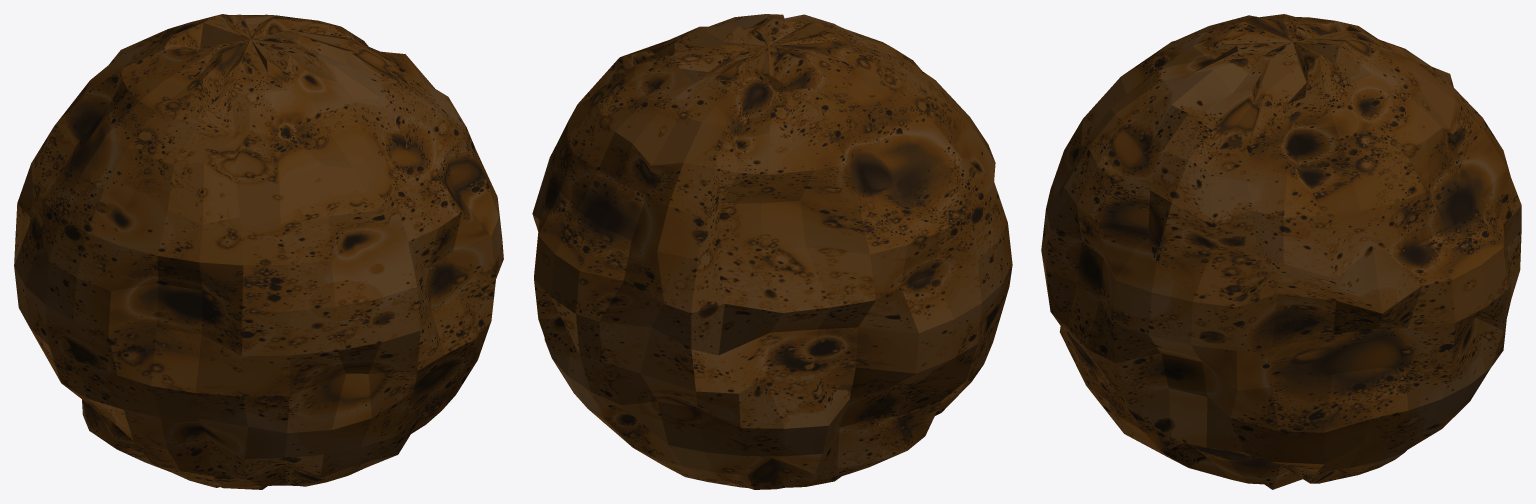
Rendered from planetAstero.obj.
3 renders of one model, left to right at view 1: azimuth 30°, elevation 25°; view 2: azimuth 150°, elevation 25°; view 3: azimuth 270°, elevation 25°, orthographic.
Visible parts, largest first — view 1: 球; view 2: 球; view 3: 球.
Part boxes in pixels (box(x1,y1,x2,y2)): 球: box(14, 14, 503, 489); 球: box(532, 14, 1012, 489); 球: box(1041, 14, 1521, 489).
Bounding box in the file's own units: 1.2 × 1.16 × 1.2.
1 material, 1 textured.
